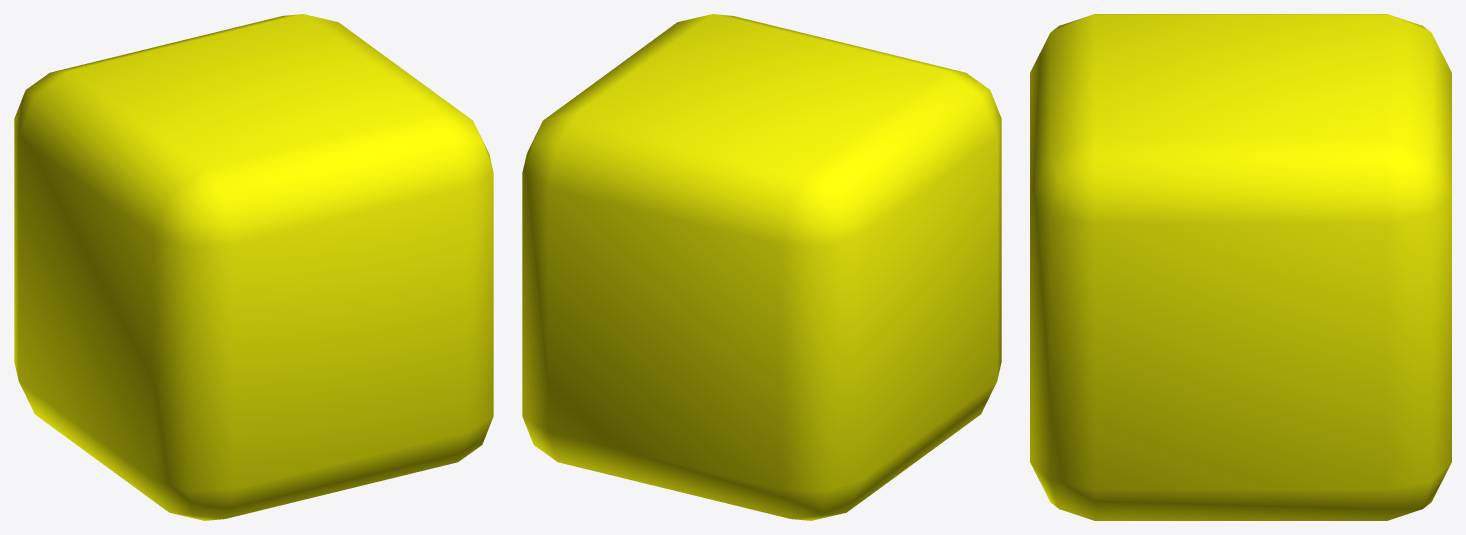
The model's file is kaykit-bush-2-c-color-1.glb.
The picture shows the model from 3 angles, left to right: view 1: azimuth 30°, elevation 25°; view 2: azimuth 150°, elevation 25°; view 3: azimuth 270°, elevation 25°; orthographic projection. The views are drawn at different scales.
Parts seen in each view (by area): view 1: Bush_2_C_Color1; view 2: Bush_2_C_Color1; view 3: Bush_2_C_Color1.
Boxes of the visible parts, x1,y1,x2,y2 form: Bush_2_C_Color1: (14,14,493,520); Bush_2_C_Color1: (522,14,1001,520); Bush_2_C_Color1: (1030,14,1451,520).
Size of the model in its own units: 1.32 by 1.32 by 1.32.
